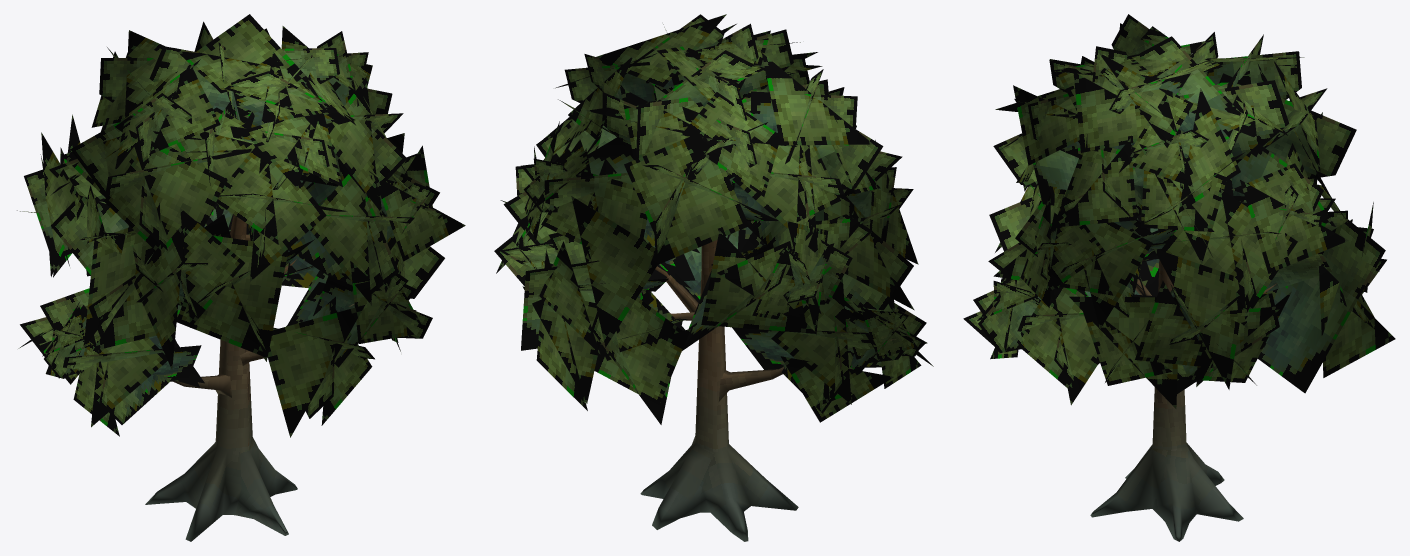
The model's file is plants_tree04.gltf.
3 views of the same model, side by side, from view 1: azimuth 30°, elevation 25°; view 2: azimuth 150°, elevation 25°; view 3: azimuth 270°, elevation 25° (orthographic).
Visible parts, largest first — view 1: plants_tree04; view 2: plants_tree04; view 3: plants_tree04.
Part boxes in pixels (bbox=[...]): plants_tree04: bbox=[17, 14, 465, 541]; plants_tree04: bbox=[494, 14, 933, 541]; plants_tree04: bbox=[963, 14, 1395, 541].
Size of what is drawn, in the model's own units: 5.7 by 6.3 by 5.27.
2 materials, 2 textured.
